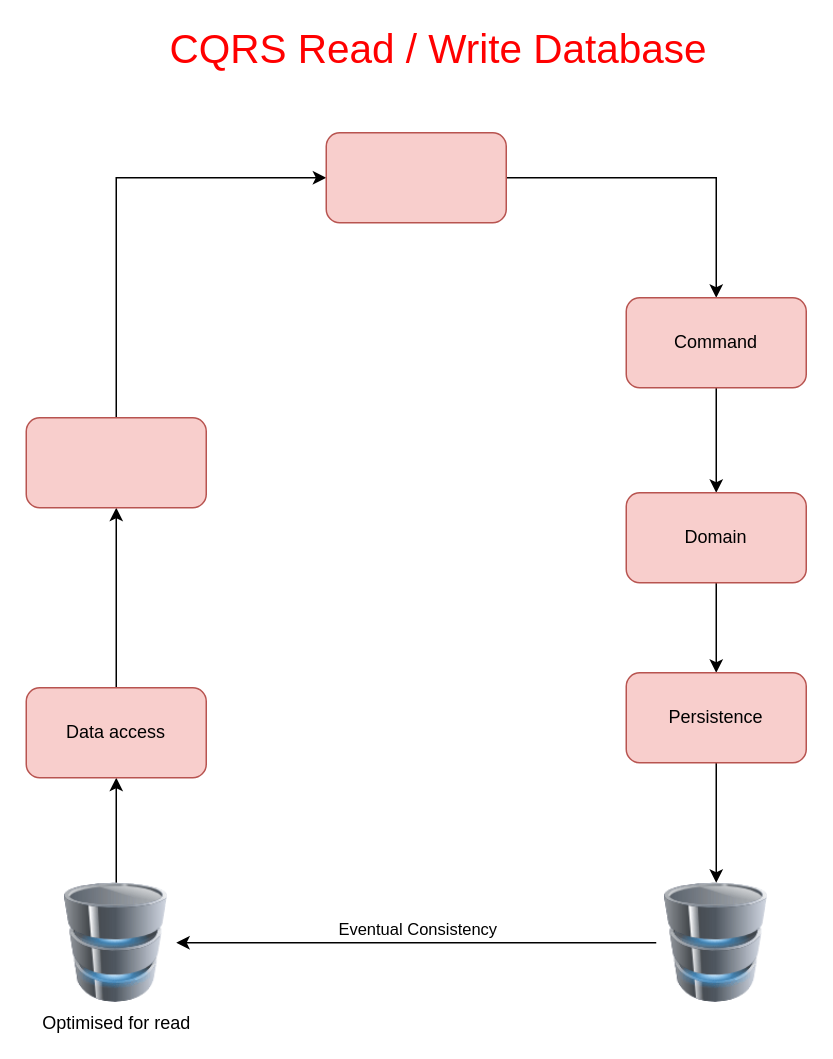
Image size: 833x1059. Some labels were removed from this diagram. Here are the shapes that lost their labels. From the top down, the box of each, then its label:
(325, 131, 506, 223): API
(25, 416, 206, 508): Query
(656, 882, 776, 1002): Optimised for write
